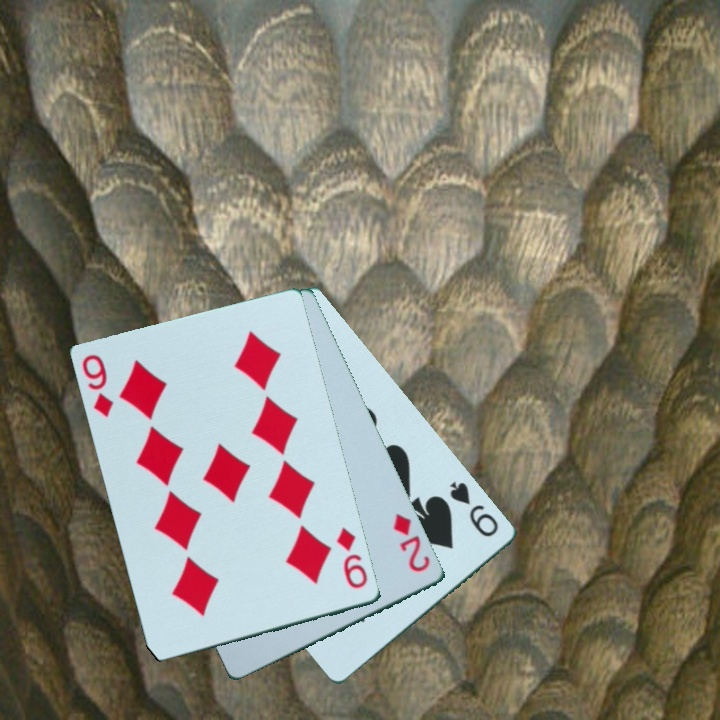2d: (389, 510, 434, 576)
9d: (79, 351, 118, 421), (333, 524, 371, 592)
9s: (446, 478, 502, 540)
